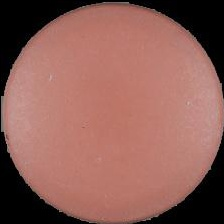68387-260: (0, 0, 224, 224)
